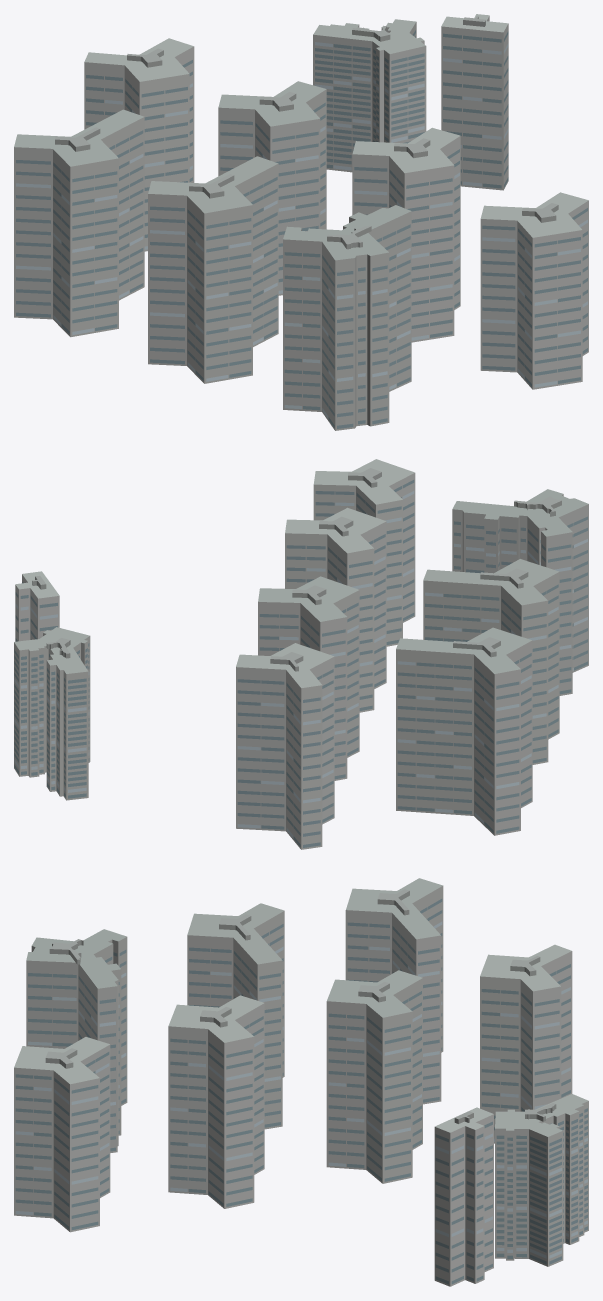
File: apt-a13528103.glb
3 views of the same model, one above another, from view 1: azimuth 30°, elevation 25°; view 2: azimuth 150°, elevation 25°; view 3: azimuth 270°, elevation 25° (orthographic). The views are drawn at different scales.
Parts seen in each view (by area): view 1: apt-a13528103; view 2: apt-a13528103; view 3: apt-a13528103.
Part boxes in pixels (x1=…): apt-a13528103: x1=14, y1=14, x2=588, y2=430; apt-a13528103: x1=14, y1=459, x2=588, y2=849; apt-a13528103: x1=14, y1=878, x2=588, y2=1286.
Size of the model in its own units: 259 by 85 by 259.
